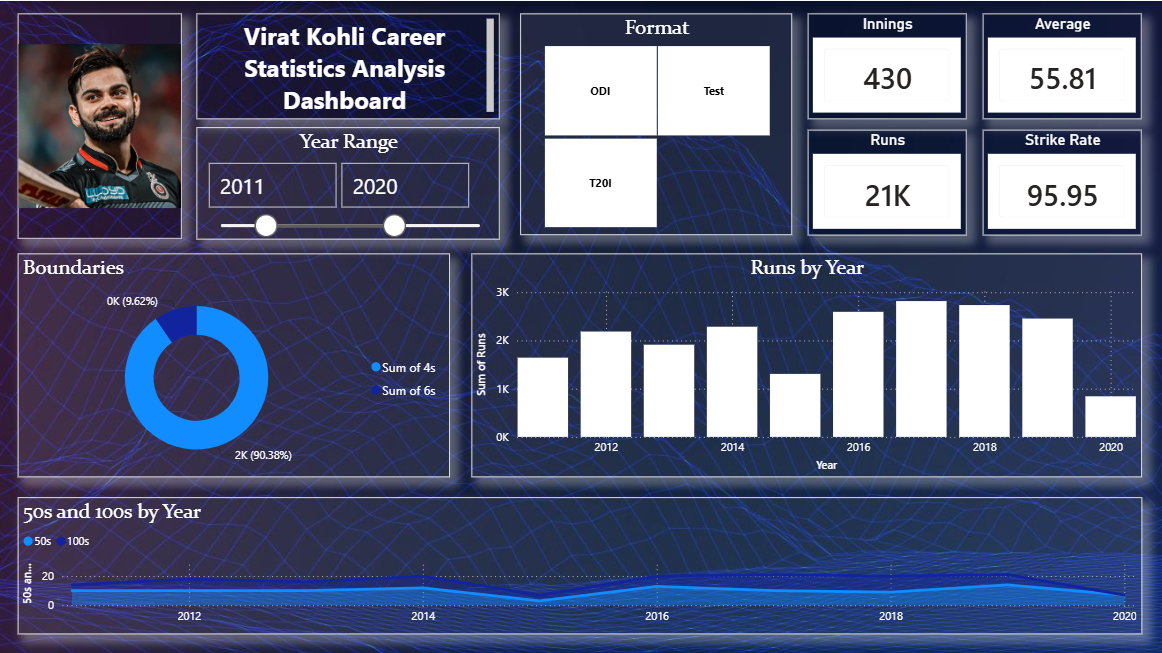

What the dashboard file says about the page in this screenshot:
{"tool":"powerbi","page":{"name":"Page 1","canvas":[1280,720],"ordinal":0},"visuals":[{"type":"image","box":[20,14.3,180,247.1],"z":0},{"type":"textbox","box":[217.1,14.3,332.9,115.7],"z":1000},{"type":"cardVisual","title":"Innings","fields":{"Data":["Sum(Sheet1.Innings)"]},"box":[887.1,14.3,174.3,115.7],"z":2000},{"type":"cardVisual","title":"Runs","fields":{"Data":["Sum(Sheet1.Runs)"]},"box":[887.1,141.4,174.3,115.7],"z":3000},{"type":"cardVisual","title":"Average","fields":{"Data":["Avg(Sheet1.Avg)"]},"box":[1080,14.3,174.3,115.7],"z":4000},{"type":"cardVisual","title":"Strike Rate","fields":{"Data":["Avg(Sheet1.SR)"]},"box":[1080,141.4,174.3,115.7],"z":5000},{"type":"slicer","title":"Format","fields":{"Values":["Sheet1.Format"]},"box":[572.9,14.3,298.6,242.9],"z":6000},{"type":"slicer","title":"Year Range","fields":{"Values":["Sheet1.Year"]},"box":[217.1,138.6,332.9,122.9],"z":7000},{"type":"clusteredColumnChart","title":"Runs by Year","fields":{"Y":["Sum(Sheet1.Runs)"],"Category":["Sheet1.Year"]},"box":[518.6,277.1,735.7,245.7],"z":8000},{"type":"donutChart","title":"Boundaries","fields":{"Y":["Sum(Sheet1.4s)","Sum(Sheet1.6s)"]},"box":[20,277.1,474.3,245.7],"z":9000},{"type":"stackedAreaChart","fields":{"Y":["Sum(Sheet1.50)","Sum(Sheet1.100)"],"Category":["Sheet1.Year"]},"box":[20,544.3,1234.3,150],"z":10000}]}

Visuals, with their boxes in screenshot pixels (x1, y1, x2, y2), scaled from the page's 1280x720 canvas onto the 1162x653 screenshot:
image: Rect(18, 13, 182, 237)
textbox: Rect(197, 13, 499, 118)
"Innings" cardVisual: Rect(805, 13, 964, 118)
"Runs" cardVisual: Rect(805, 128, 964, 233)
"Average" cardVisual: Rect(980, 13, 1139, 118)
"Strike Rate" cardVisual: Rect(980, 128, 1139, 233)
"Format" slicer: Rect(520, 13, 791, 233)
"Year Range" slicer: Rect(197, 126, 499, 237)
"Runs by Year" clusteredColumnChart: Rect(471, 251, 1139, 474)
"Boundaries" donutChart: Rect(18, 251, 449, 474)
stackedAreaChart - Sum(Sheet1.50) x Sum(Sheet1.100): Rect(18, 494, 1139, 630)
